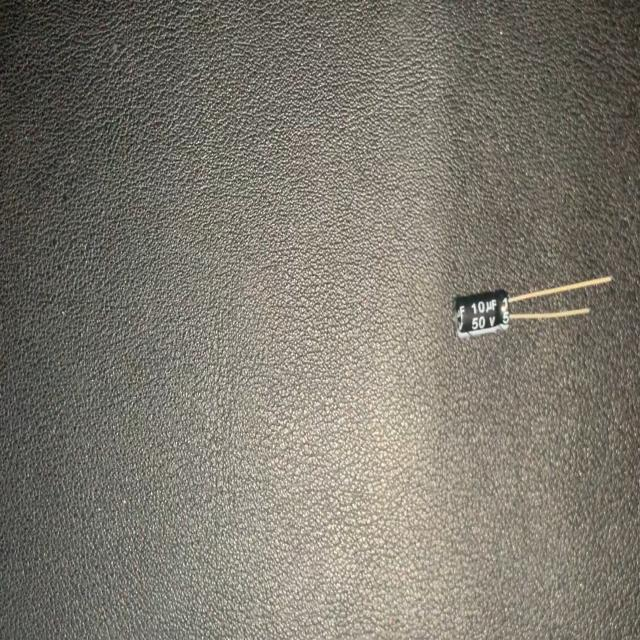capacitor: (450, 273, 614, 340)
